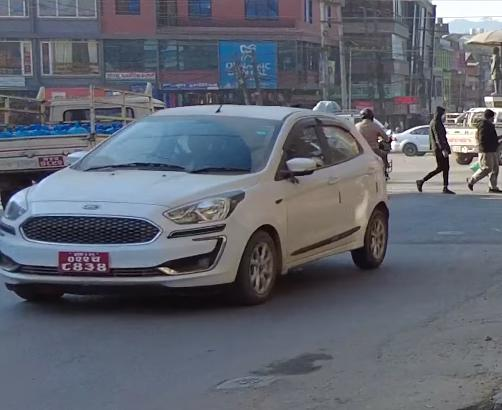car: (4, 107, 398, 302)
